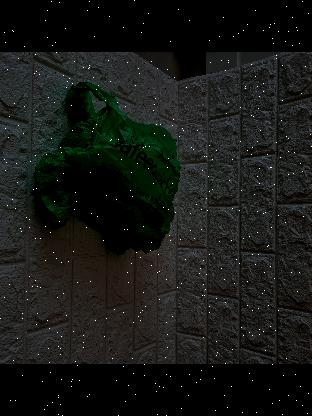Others: (33, 80, 184, 254)
